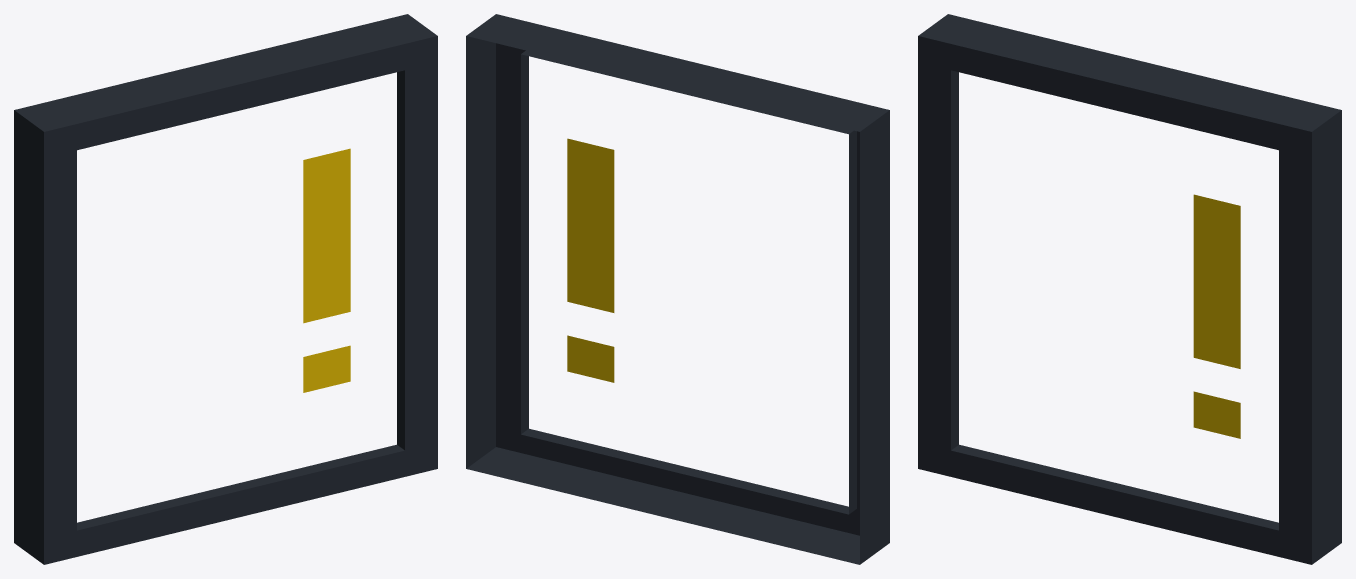
The model's file is SO_picture07.fbx.
3 views of the same model, side by side, from view 1: azimuth 30°, elevation 25°; view 2: azimuth 150°, elevation 25°; view 3: azimuth 330°, elevation 25° (orthographic).
Visible parts, largest first — view 1: SO_pictures07; view 2: SO_pictures07; view 3: SO_pictures07.
Part boxes in pixels (x1=…): SO_pictures07: x1=14, y1=14, x2=437, y2=564; SO_pictures07: x1=466, y1=14, x2=889, y2=564; SO_pictures07: x1=918, y1=14, x2=1341, y2=564.
Size of the model in its own units: 55.76 by 58.6 by 7.35.
